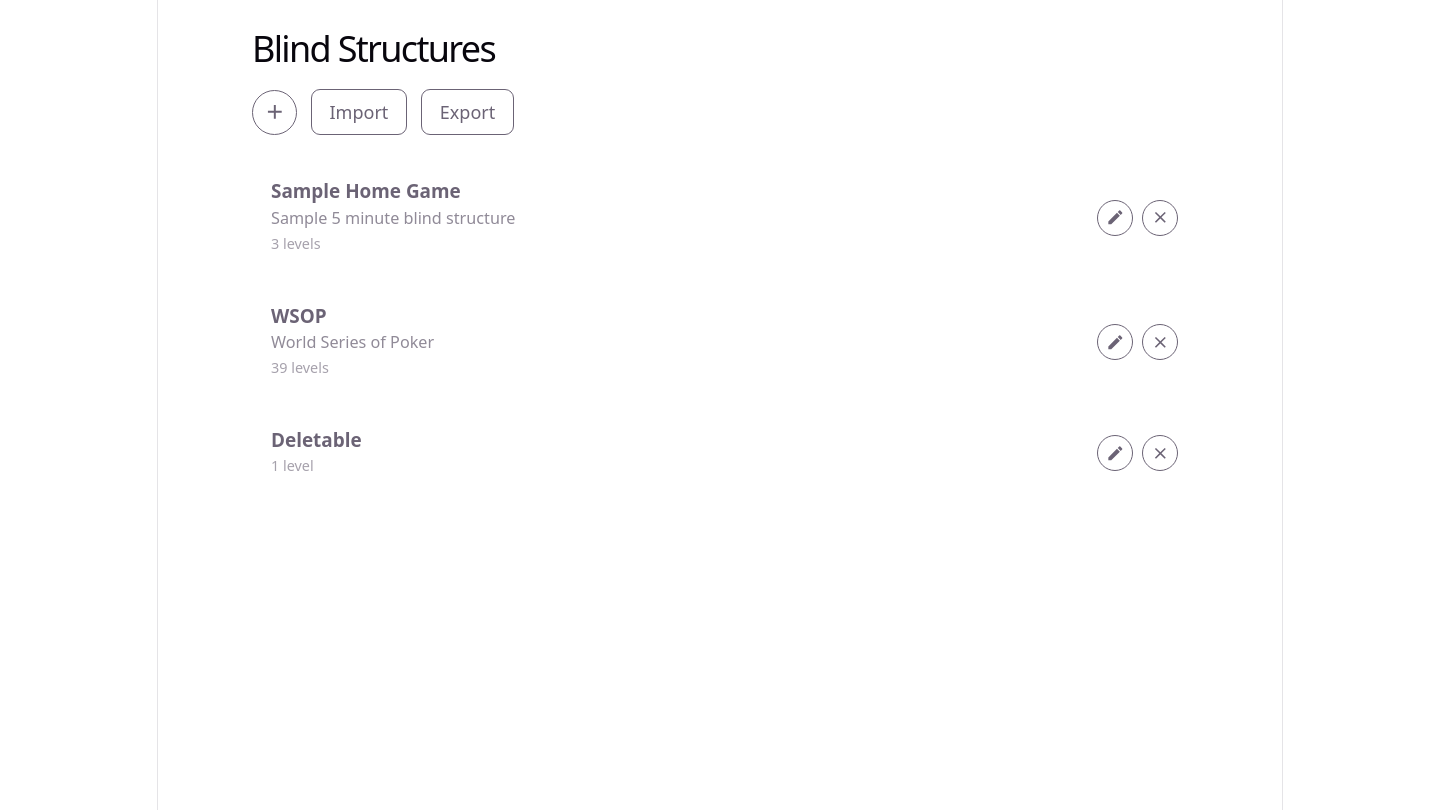
Test case: SettingsPage › deletes a structure after confirming when more than one exists
This screenshot has width=1440, height=810.
Click the button named "Delete Deletable" at coordinates (1160, 453), box 1142,435 -> 1178,471
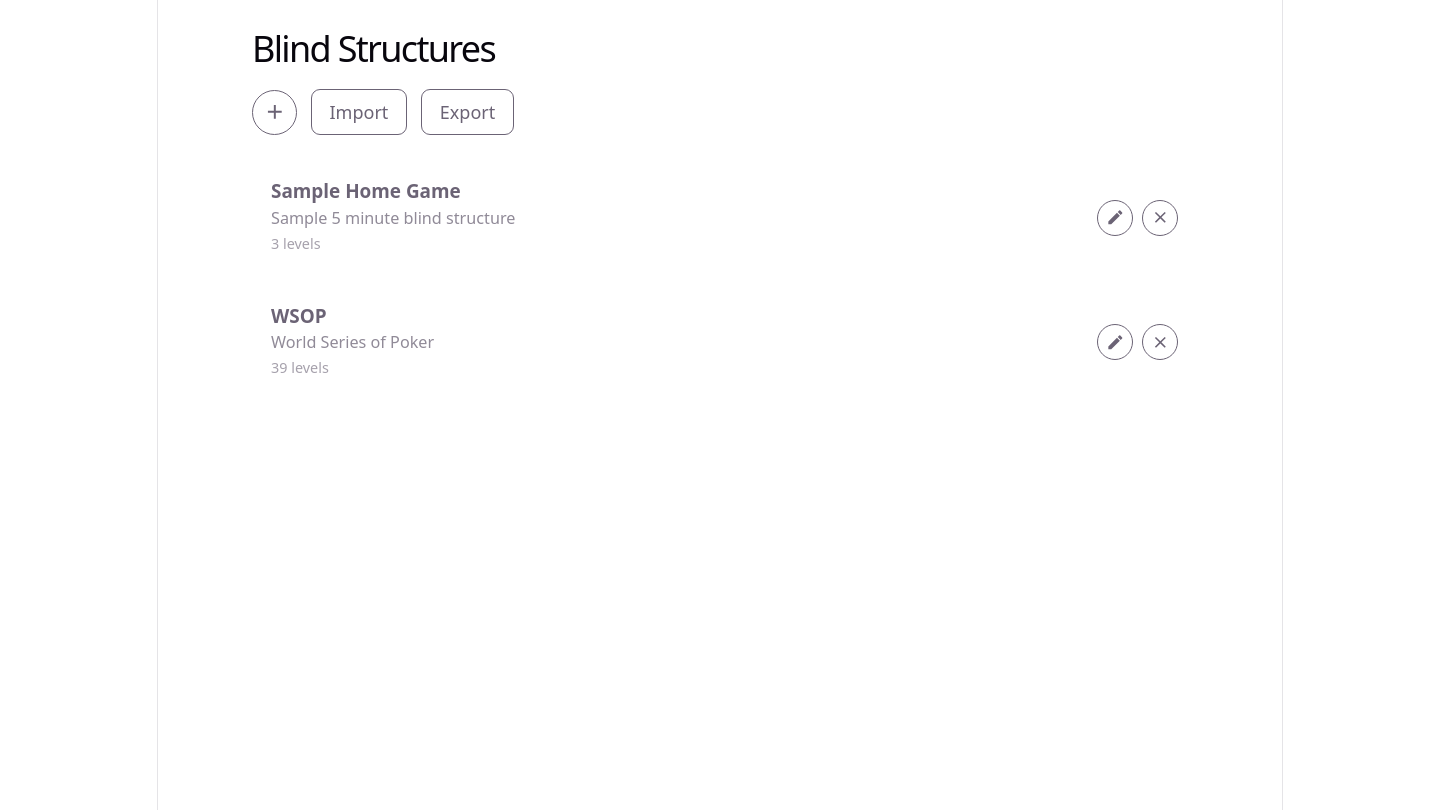
Result: the button "Deletable" is gone
